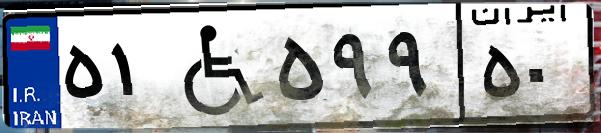0: (525, 38, 570, 115)
1: (110, 28, 158, 98)
5: (270, 28, 330, 110), (57, 26, 110, 100), (475, 38, 525, 113)
9: (385, 28, 445, 110), (330, 28, 385, 110)
ژ (معلولین و جانبازان): (158, 12, 270, 120)
